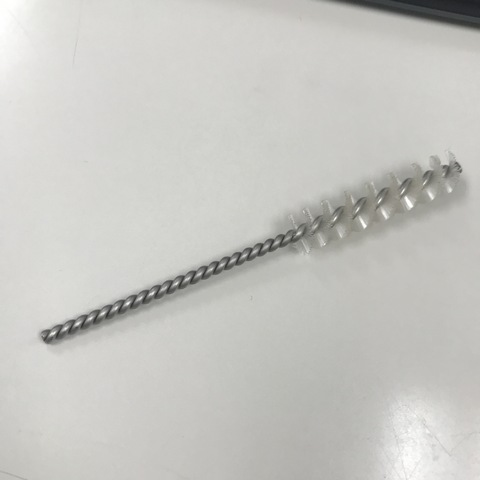Twist Brush-B: (39, 145, 462, 346)
